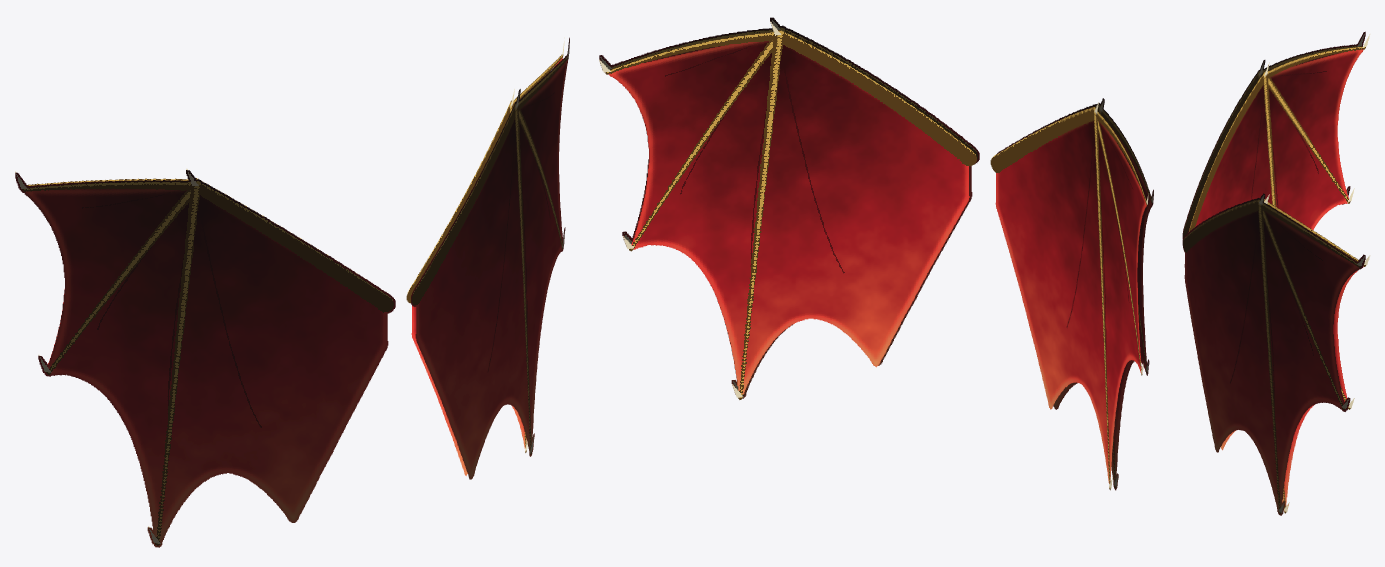
File: crimson_wyvern_wings.glb
3 views of the same model, side by side, from view 1: azimuth 30°, elevation 25°; view 2: azimuth 150°, elevation 25°; view 3: azimuth 270°, elevation 25° (orthographic). The views are drawn at different scales.
Parts seen in each view (by area): view 1: Crimson Wyvern Wings Wing Right, Crimson Wyvern Wings Wing Left; view 2: Crimson Wyvern Wings Wing Left, Crimson Wyvern Wings Wing Right; view 3: Crimson Wyvern Wings Wing Left, Crimson Wyvern Wings Wing Right.
Part boxes in pixels (<box>): Crimson Wyvern Wings Wing Right: <box>15,168,395,547</box>; Crimson Wyvern Wings Wing Left: <box>406,37,569,479</box>; Crimson Wyvern Wings Wing Left: <box>599,17,979,399</box>; Crimson Wyvern Wings Wing Right: <box>990,98,1153,490</box>; Crimson Wyvern Wings Wing Left: <box>1182,193,1370,515</box>; Crimson Wyvern Wings Wing Right: <box>1182,31,1370,267</box>.
Bounding box in the file's own units: 2.3 × 1.51 × 0.8184.
Materials: 2 (2 with a texture image).
